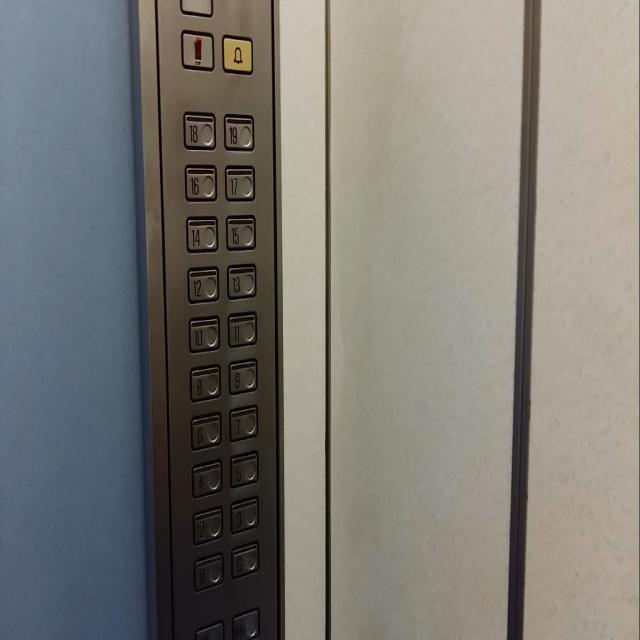10: (187, 312, 221, 354)
11: (226, 308, 259, 349)
12: (186, 264, 220, 304)
13: (225, 260, 258, 301)
14: (184, 212, 219, 254)
15: (224, 212, 257, 252)
16: (183, 161, 218, 204)
17: (223, 161, 257, 203)
18: (182, 108, 217, 152)
19: (221, 111, 255, 152)
2: (191, 503, 224, 547)
3: (228, 493, 260, 536)
4: (190, 456, 223, 499)
5: (228, 448, 259, 489)
6: (188, 410, 222, 452)
7: (227, 402, 259, 442)
8: (188, 361, 222, 404)
9: (226, 355, 259, 396)
B: (192, 549, 224, 594)
G: (229, 538, 261, 582)
alarm: (220, 31, 255, 78)
bt_switch: (179, 27, 216, 74)
close: (230, 603, 261, 639)
